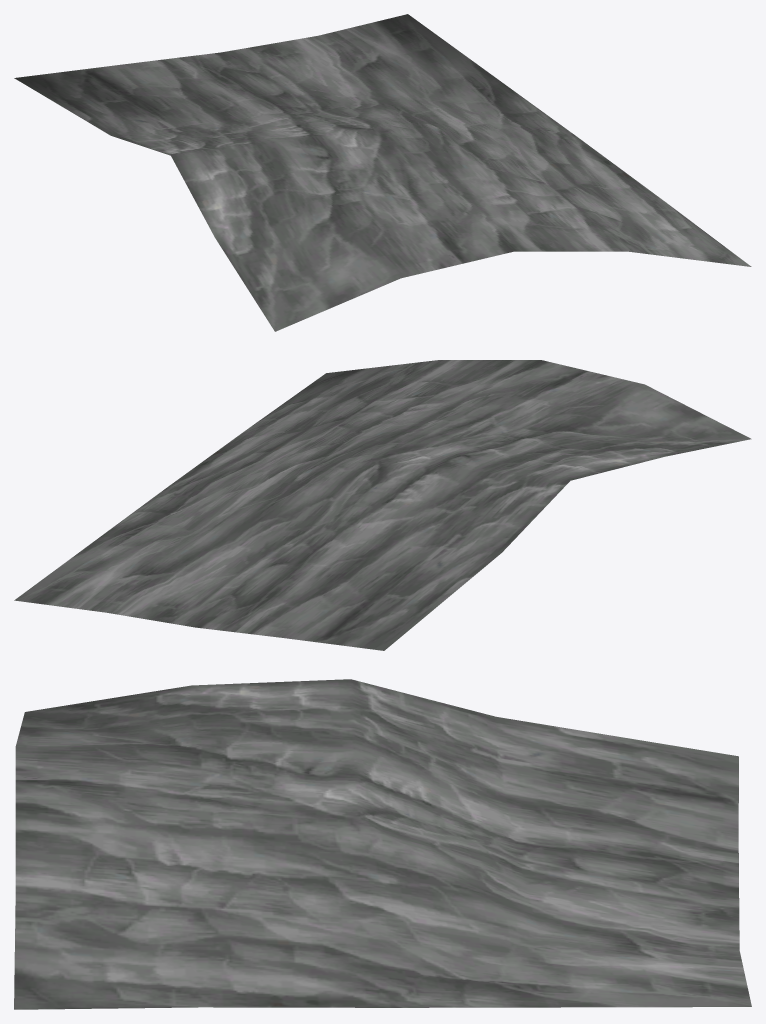
Rendered from SWORDLIGHT20_PS-AREA01_01.fbx.
The picture shows the model from 3 angles, top to bottom: view 1: azimuth 30°, elevation 25°; view 2: azimuth 150°, elevation 25°; view 3: azimuth 270°, elevation 25°; orthographic projection. The views are drawn at different scales.
Visible parts, largest first — view 1: SWORDLIGHT20_PS-AREA01_01; view 2: SWORDLIGHT20_PS-AREA01_01; view 3: SWORDLIGHT20_PS-AREA01_01.
Part boxes in pixels (x1,y1,x2,y2): SWORDLIGHT20_PS-AREA01_01: [14, 14, 751, 331]; SWORDLIGHT20_PS-AREA01_01: [14, 360, 751, 650]; SWORDLIGHT20_PS-AREA01_01: [14, 679, 751, 1009].
Size of the model in its own units: 55867 by 11333 by 70298.
Materials: 1 (1 with a texture image).
